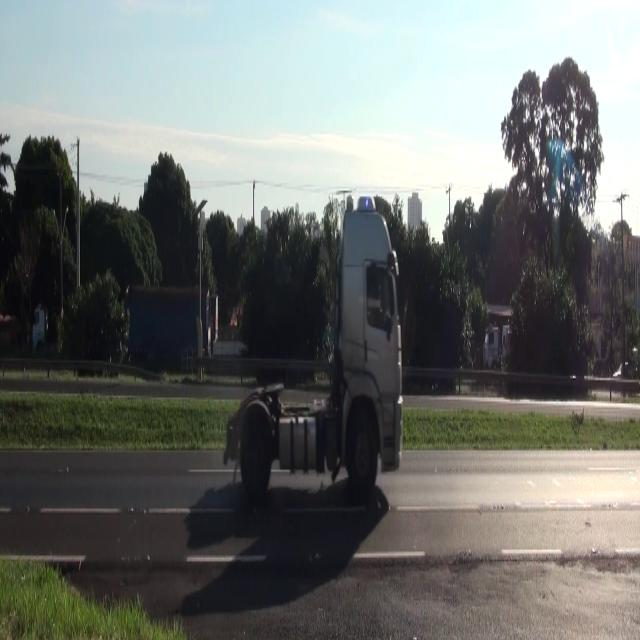-axle: (343, 410, 378, 504), (242, 408, 272, 482)
